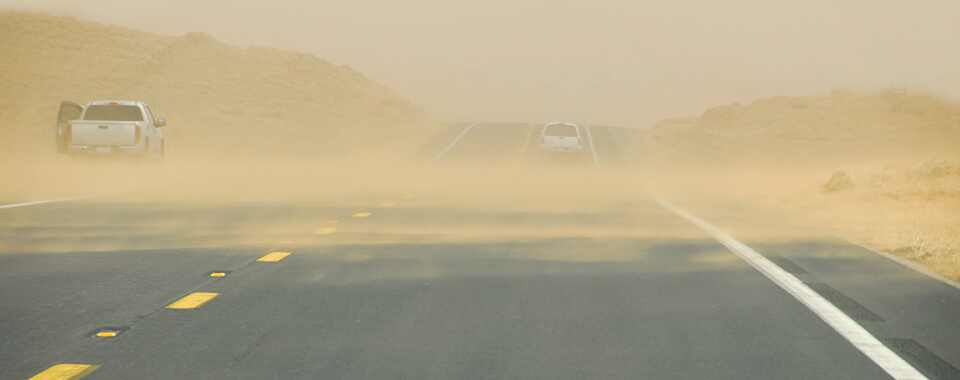car: (60, 98, 165, 158), (534, 122, 584, 161)
